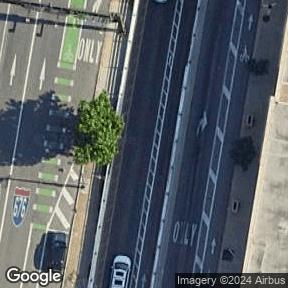vegetation: (71, 88, 128, 169)
